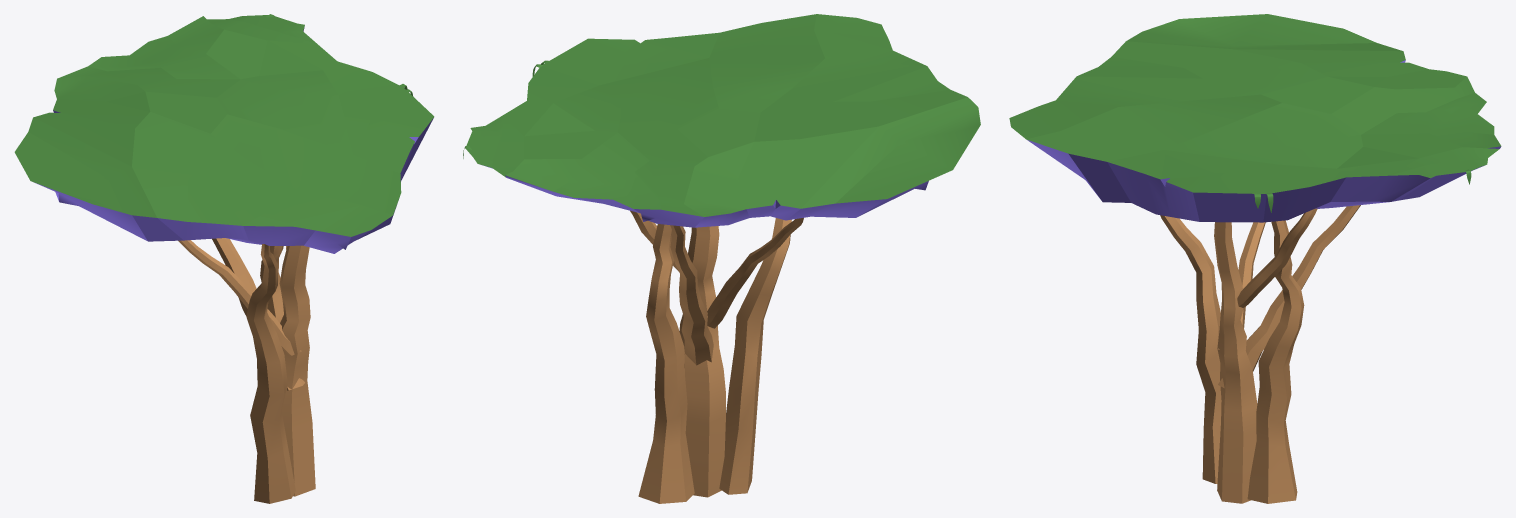
Rendered from tree_E_canopy_C_solo.fbx.
The picture shows the model from 3 angles, left to right: view 1: azimuth 30°, elevation 25°; view 2: azimuth 150°, elevation 25°; view 3: azimuth 270°, elevation 25°; orthographic projection. The views are drawn at different scales.
Parts seen in each view (by area): view 1: tree_E_canopy_C, tree_E_canopy_C_trunks_C, tree_E_canopy_C_trunks_A, tree_E_canopy_C_trunks_F, tree_E_canopy_C_trunks_D, tree_E_canopy_C_trunks_B; view 2: tree_E_canopy_C, tree_E_canopy_C_trunks_B, tree_E_canopy_C_trunks_C, tree_E_canopy_C_trunks_A, tree_E_canopy_C_trunks_D, tree_E_canopy_C_trunks_F; view 3: tree_E_canopy_C, tree_E_canopy_C_trunks_A, tree_E_canopy_C_trunks_B, tree_E_canopy_C_trunks_C, tree_E_canopy_C_trunks_D, tree_E_canopy_C_trunks_L, tree_E_canopy_C_trunks_F.
Boxes of the visible parts, x1,y1,x2,y2 form: tree_E_canopy_C: [14, 15, 434, 253]; tree_E_canopy_C_trunks_C: [246, 244, 295, 503]; tree_E_canopy_C_trunks_A: [279, 245, 315, 496]; tree_E_canopy_C_trunks_F: [178, 240, 301, 355]; tree_E_canopy_C_trunks_D: [212, 238, 304, 390]; tree_E_canopy_C_trunks_B: [260, 246, 283, 322]; tree_E_canopy_C: [465, 14, 980, 227]; tree_E_canopy_C_trunks_B: [638, 224, 694, 503]; tree_E_canopy_C_trunks_C: [719, 218, 791, 494]; tree_E_canopy_C_trunks_A: [679, 226, 725, 497]; tree_E_canopy_C_trunks_D: [670, 225, 713, 365]; tree_E_canopy_C_trunks_F: [707, 218, 803, 328]; tree_E_canopy_C: [1009, 14, 1501, 222]; tree_E_canopy_C_trunks_A: [1214, 222, 1257, 503]; tree_E_canopy_C_trunks_B: [1247, 220, 1304, 503]; tree_E_canopy_C_trunks_C: [1160, 215, 1221, 483]; tree_E_canopy_C_trunks_D: [1218, 205, 1360, 388]; tree_E_canopy_C_trunks_L: [1237, 208, 1317, 307]; tree_E_canopy_C_trunks_F: [1218, 222, 1265, 349].
Bounding box in the file's own units: 497 × 463 × 557.
